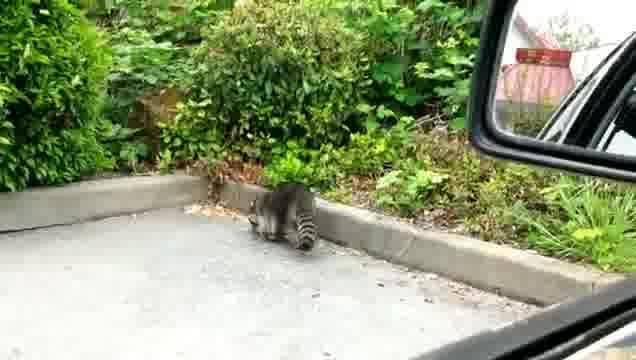raccoon: (244, 179, 326, 252)
